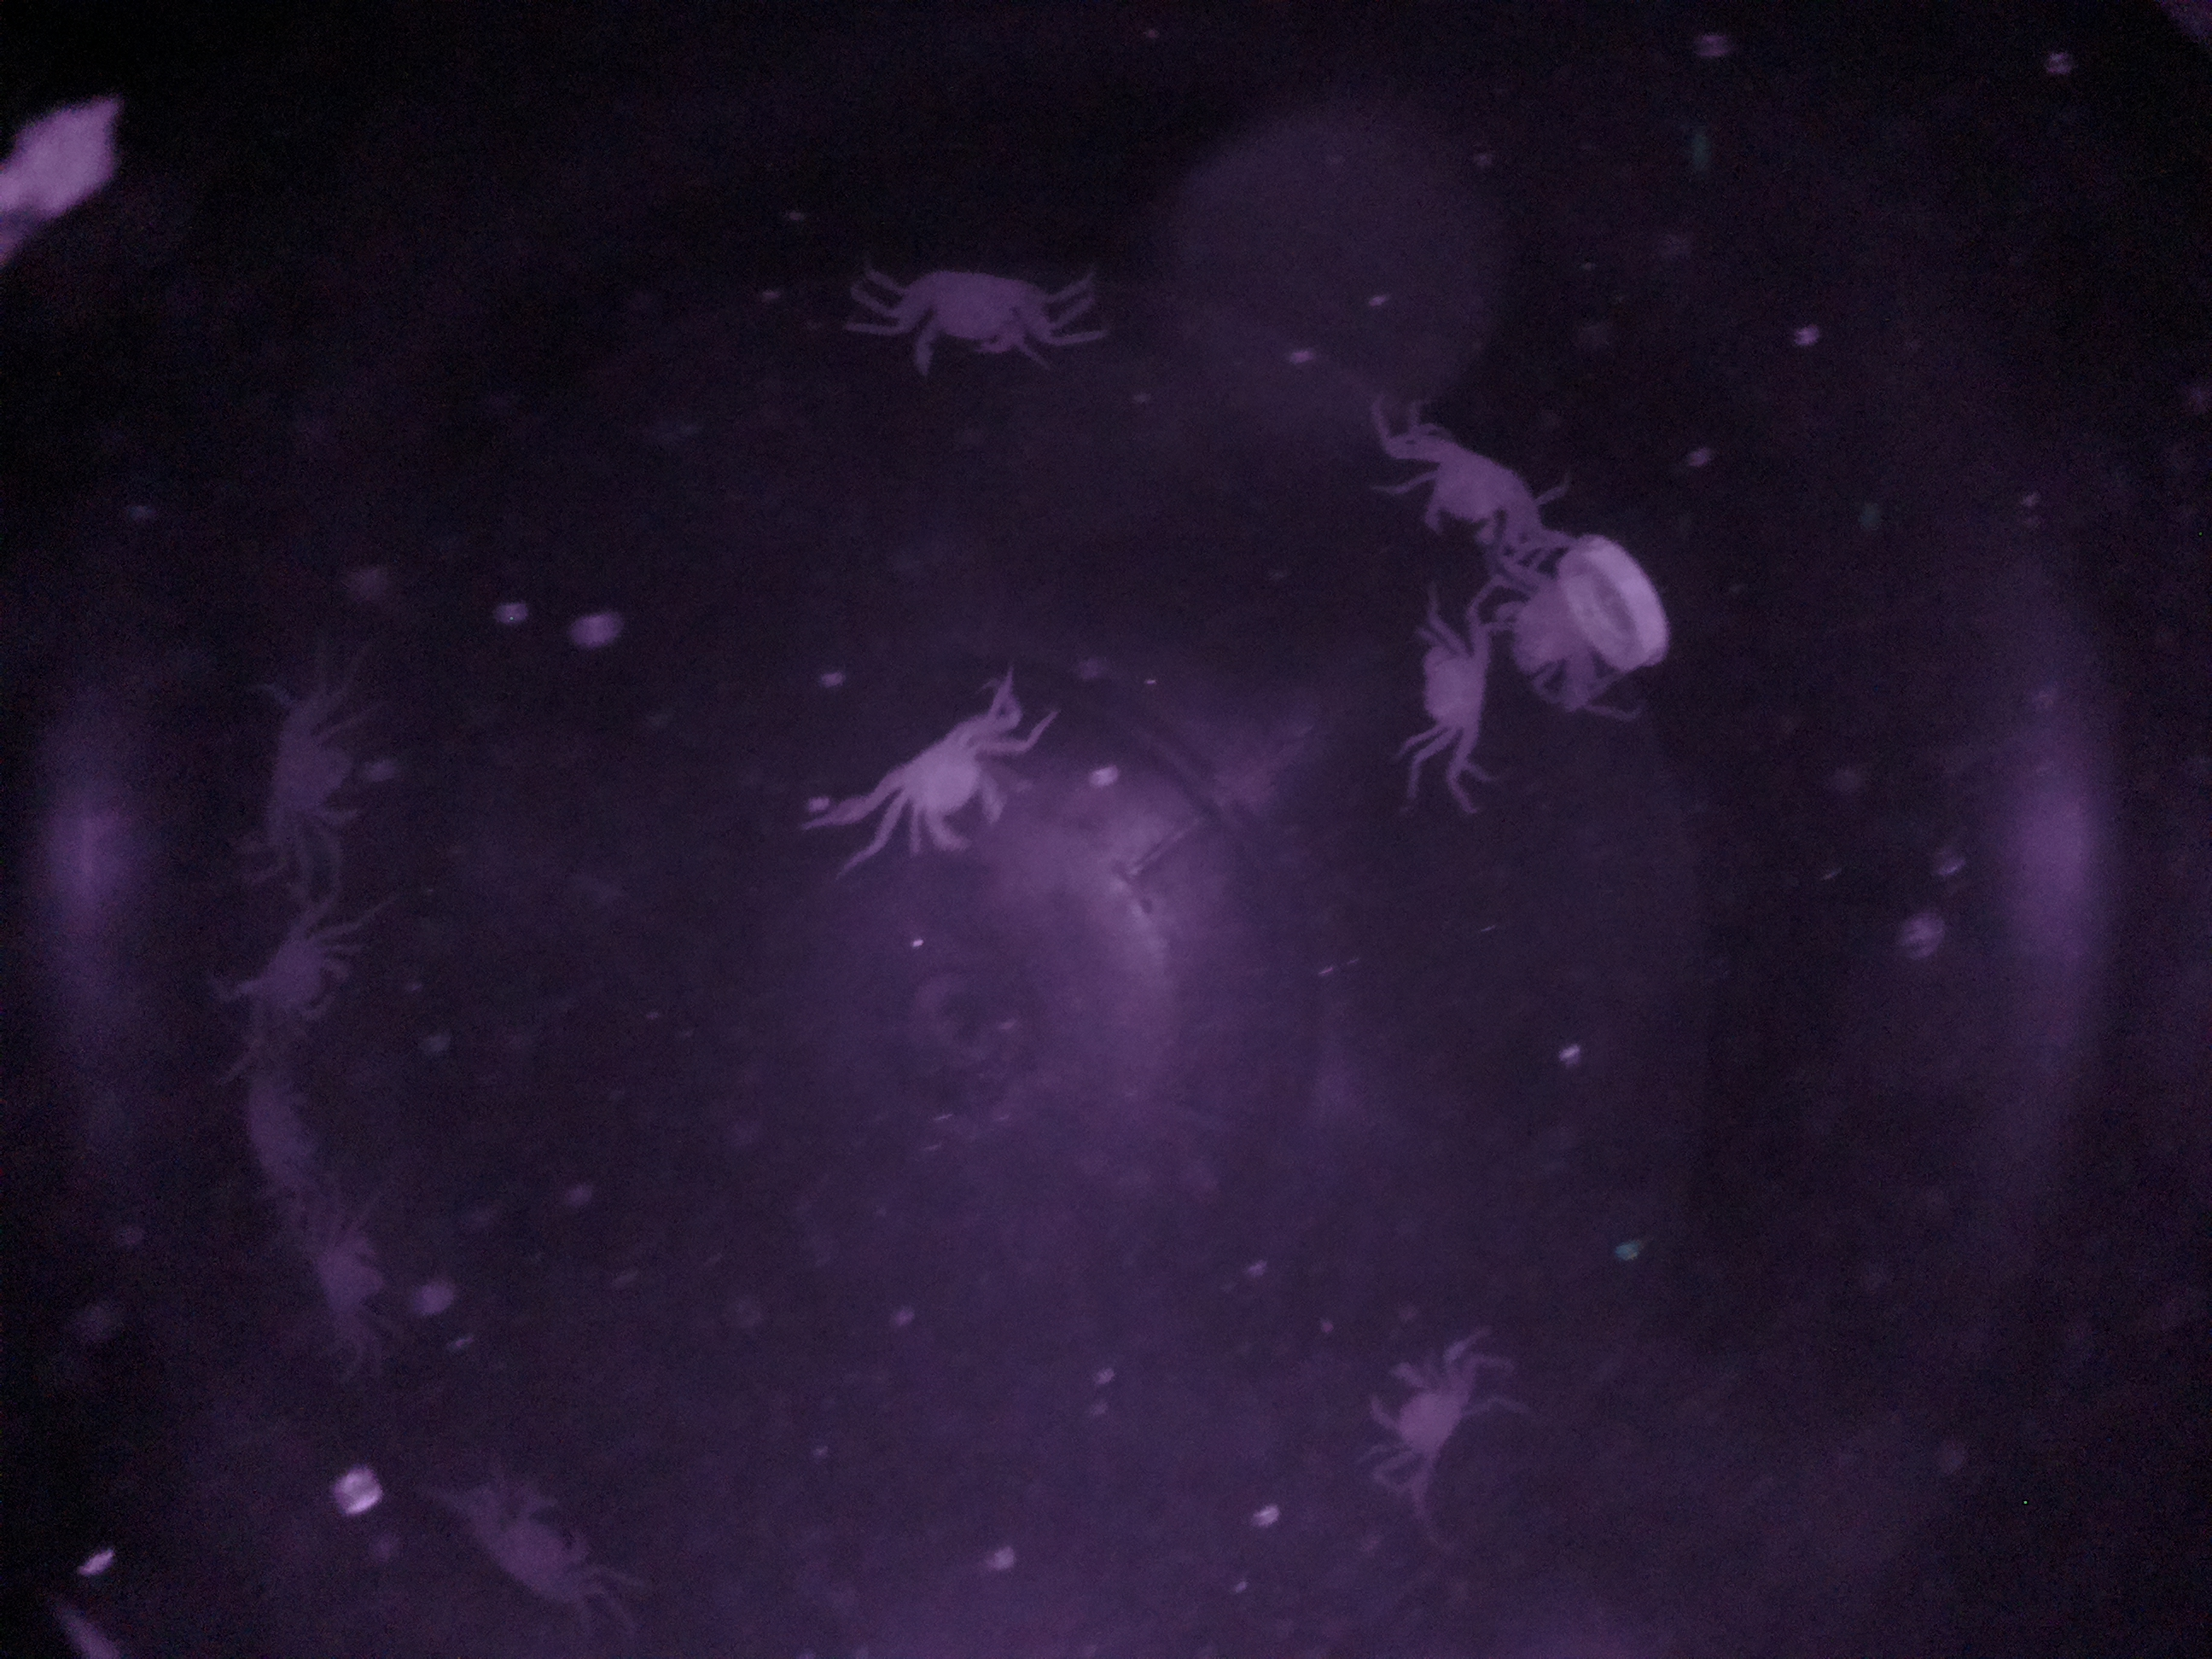Crab: (845, 680, 1022, 889), (866, 223, 1071, 378), (1364, 413, 1554, 570), (1348, 1337, 1514, 1511), (1404, 612, 1515, 775)
